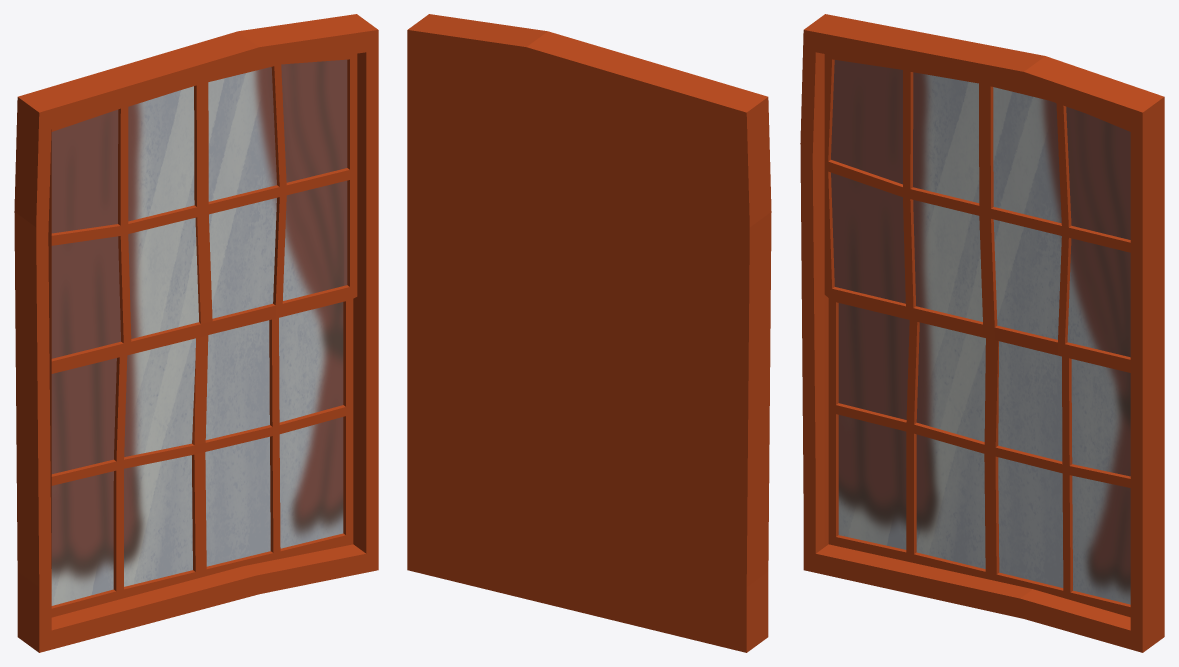
File: Window2.fbx
The picture shows the model from 3 angles, left to right: view 1: azimuth 30°, elevation 25°; view 2: azimuth 150°, elevation 25°; view 3: azimuth 330°, elevation 25°; orthographic projection.
Visible parts, largest first — view 1: Cube.028; view 2: Cube.028; view 3: Cube.028.
Part boxes in pixels (left/top/right/bottom): Cube.028: left=14, top=14, right=378, bottom=652; Cube.028: left=407, top=14, right=771, bottom=652; Cube.028: left=800, top=14, right=1164, bottom=652.
Bounding box in the file's own units: 111 × 171 × 12.18.
